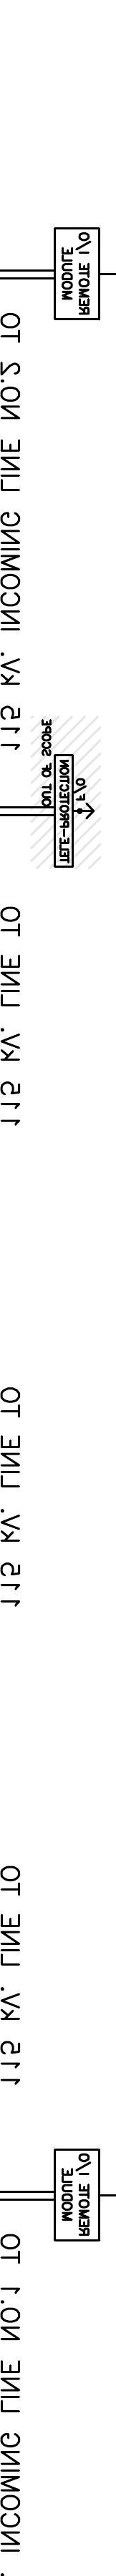remote_io_module: (53, 227, 101, 320), (53, 2149, 101, 2242)
tele_protection: (53, 754, 75, 867)
